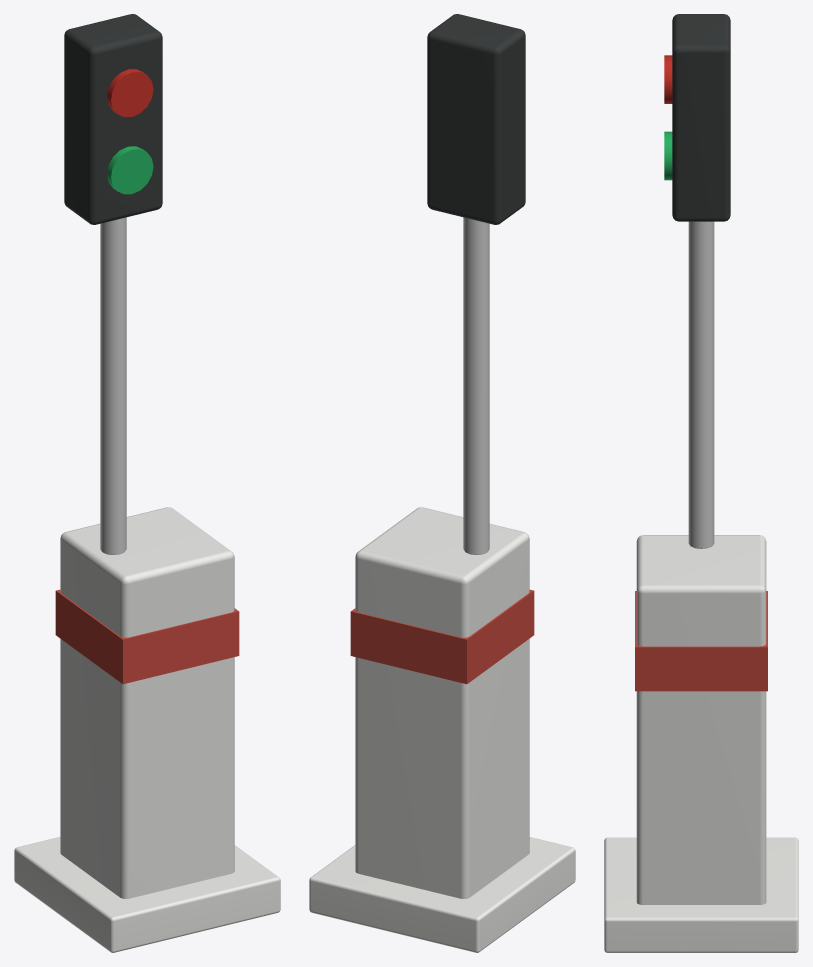
File: water.ferry.barrier.glb
The picture shows the model from 3 angles, left to right: view 1: azimuth 30°, elevation 25°; view 2: azimuth 150°, elevation 25°; view 3: azimuth 270°, elevation 25°; orthographic projection.
Parts seen in each view (by area): view 1: main__paint_eed, main__paint_333, main__concrete_eee, main__galv_ccc, main__paint_c44, main__light_2b6, main__light_c32; view 2: main__paint_eed, main__paint_333, main__concrete_eee, main__galv_ccc, main__paint_c44; view 3: main__paint_eed, main__concrete_eee, main__paint_333, main__galv_ccc, main__paint_c44, main__light_2b6, main__light_c32.
Boxes of the visible parts, x1,y1,x2,y2 form: main__paint_eed: (60, 507, 234, 898); main__paint_333: (64, 14, 162, 224); main__concrete_eee: (14, 837, 280, 952); main__galv_ccc: (100, 217, 126, 554); main__paint_c44: (55, 589, 239, 684); main__light_2b6: (107, 146, 153, 194); main__light_c32: (107, 69, 153, 117); main__paint_eed: (355, 507, 529, 898); main__paint_333: (427, 14, 525, 224); main__concrete_eee: (309, 837, 575, 952); main__galv_ccc: (463, 217, 489, 554); main__paint_c44: (350, 589, 534, 684); main__paint_eed: (636, 535, 766, 904); main__concrete_eee: (604, 837, 798, 952); main__paint_333: (672, 14, 730, 221); main__galv_ccc: (688, 221, 714, 548); main__paint_c44: (635, 591, 767, 691); main__light_2b6: (664, 131, 672, 180); main__light_c32: (664, 55, 672, 103).
Size of the model in its own units: 0.6 by 2.95 by 0.6.
